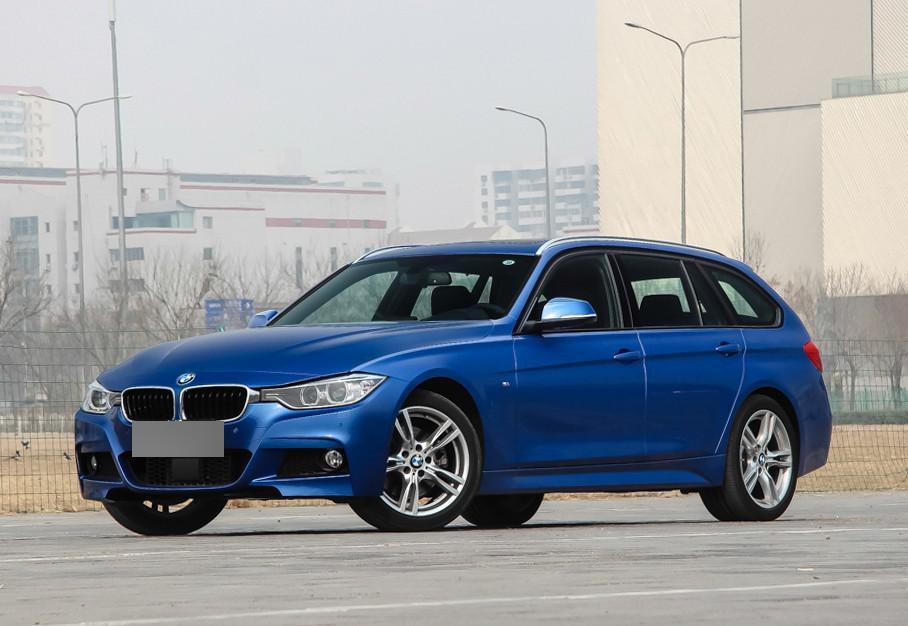Wagon: (74, 236, 832, 536)
